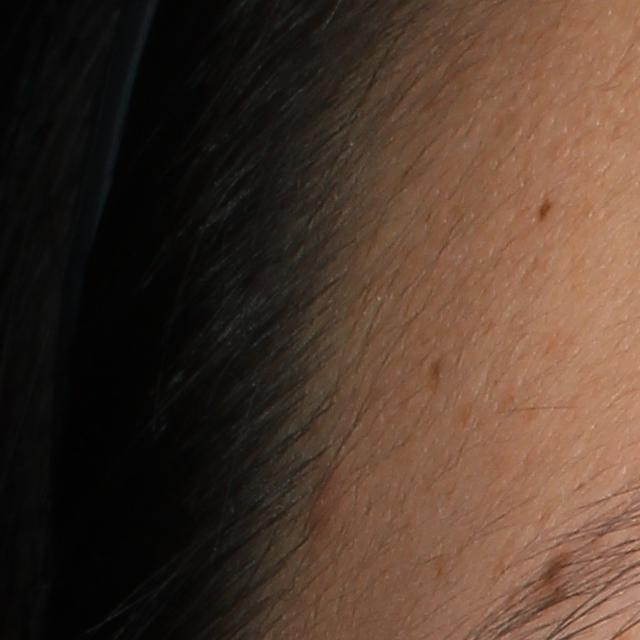nevus: (537, 548, 576, 592), (427, 351, 455, 395), (538, 193, 553, 221)
